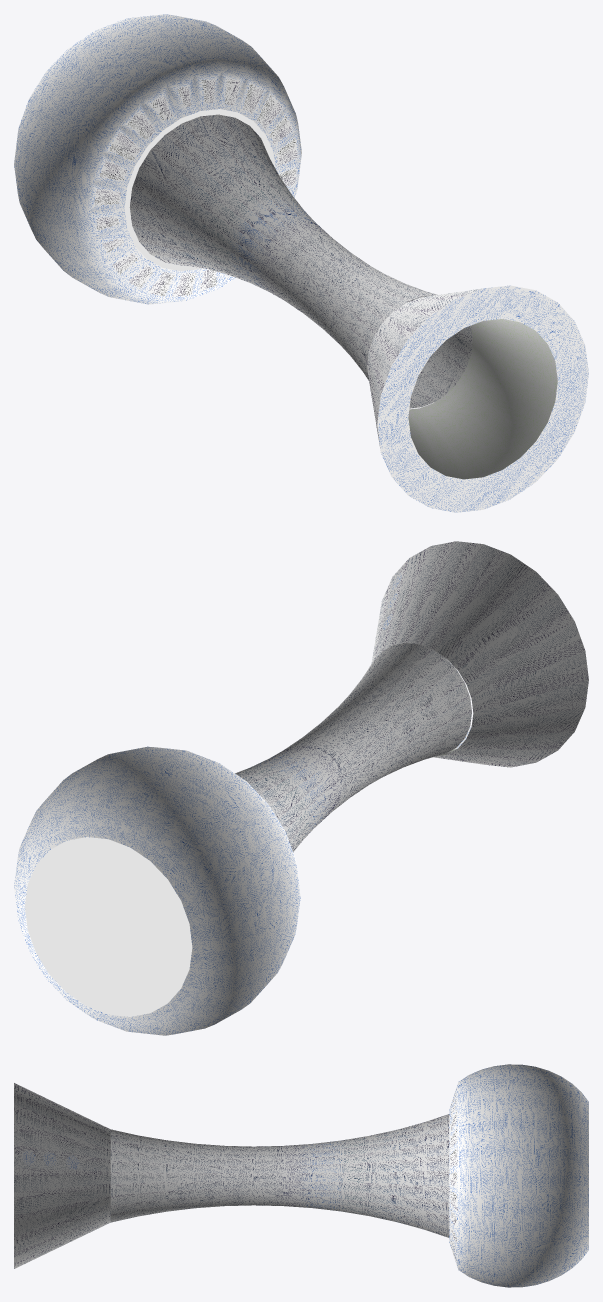
File: model_align.obj
3 views of the same model, one above another, from view 1: azimuth 30°, elevation 25°; view 2: azimuth 150°, elevation 25°; view 3: azimuth 270°, elevation 25° (orthographic). The views are drawn at different scales.
Visible parts, largest first — view 1: mesh3_mesh3-geometry, mesh1_mesh1-geometry; view 2: mesh1_mesh1-geometry, mesh3_mesh3-geometry; view 3: mesh3_mesh3-geometry, mesh1_mesh1-geometry.
Part boxes in pixels (left/top/right/bottom): mesh3_mesh3-geometry: left=129, top=114, right=588, bottom=512; mesh1_mesh1-geometry: left=14, top=14, right=301, bottom=304; mesh1_mesh1-geometry: left=14, top=746, right=300, bottom=1035; mesh3_mesh3-geometry: left=235, top=541, right=588, bottom=852; mesh3_mesh3-geometry: left=14, top=1083, right=449, bottom=1268; mesh1_mesh1-geometry: left=449, top=1064, right=588, bottom=1287.
Bounding box in the file's own units: 0.0976 × 0.0976 × 0.2506.
Materials: 4 (1 with a texture image).
